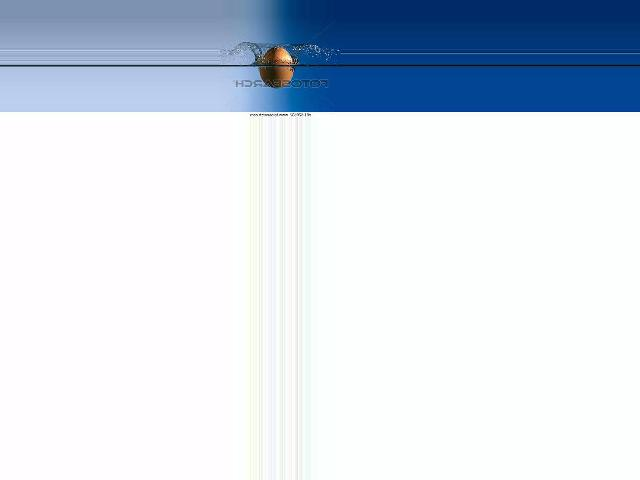egg: (258, 46, 293, 88)
